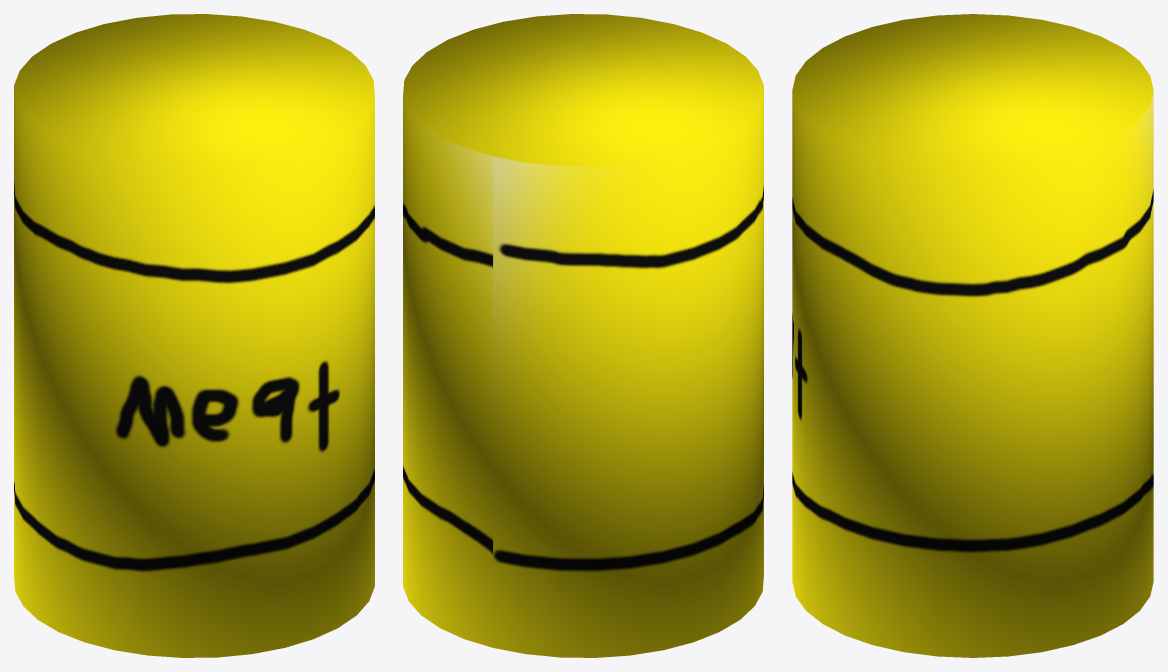
The model's file is MeatCylinder.glb.
3 renders of one model, left to right at view 1: azimuth 30°, elevation 25°; view 2: azimuth 150°, elevation 25°; view 3: azimuth 270°, elevation 25°, orthographic.
Parts seen in each view (by area): view 1: Cylinder; view 2: Cylinder; view 3: Cylinder.
Boxes of the visible parts, x1,y1,x2,y2 form: Cylinder: (14, 14, 374, 657); Cylinder: (403, 14, 763, 657); Cylinder: (792, 14, 1153, 657).
Bounding box in the file's own units: 4 × 6 × 4.
1 material, 1 textured.
